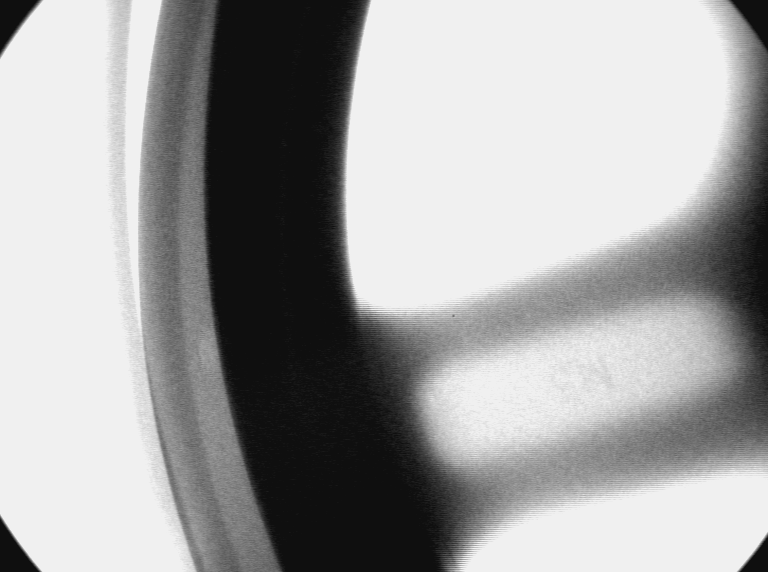defect: (196, 331, 228, 374)
